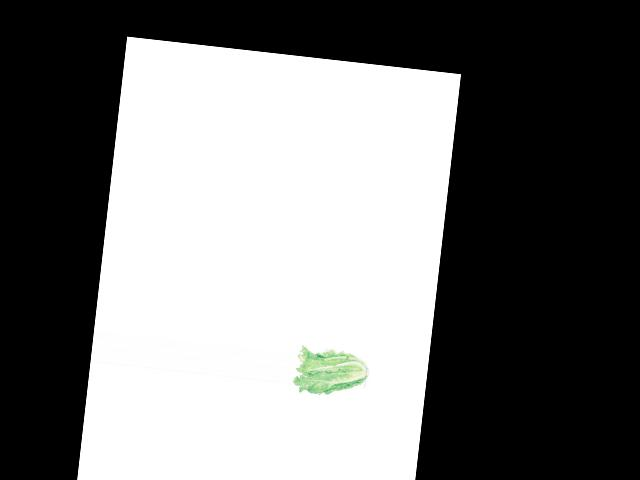lettuce: (291, 343, 369, 400)
